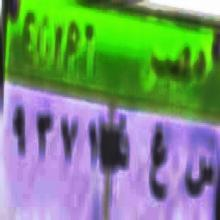1: (86, 122, 100, 174)
3: (35, 108, 55, 164)
7: (61, 109, 80, 169)
9: (11, 99, 28, 161)
ghayn: (141, 120, 173, 205)
seen: (182, 151, 215, 196)
